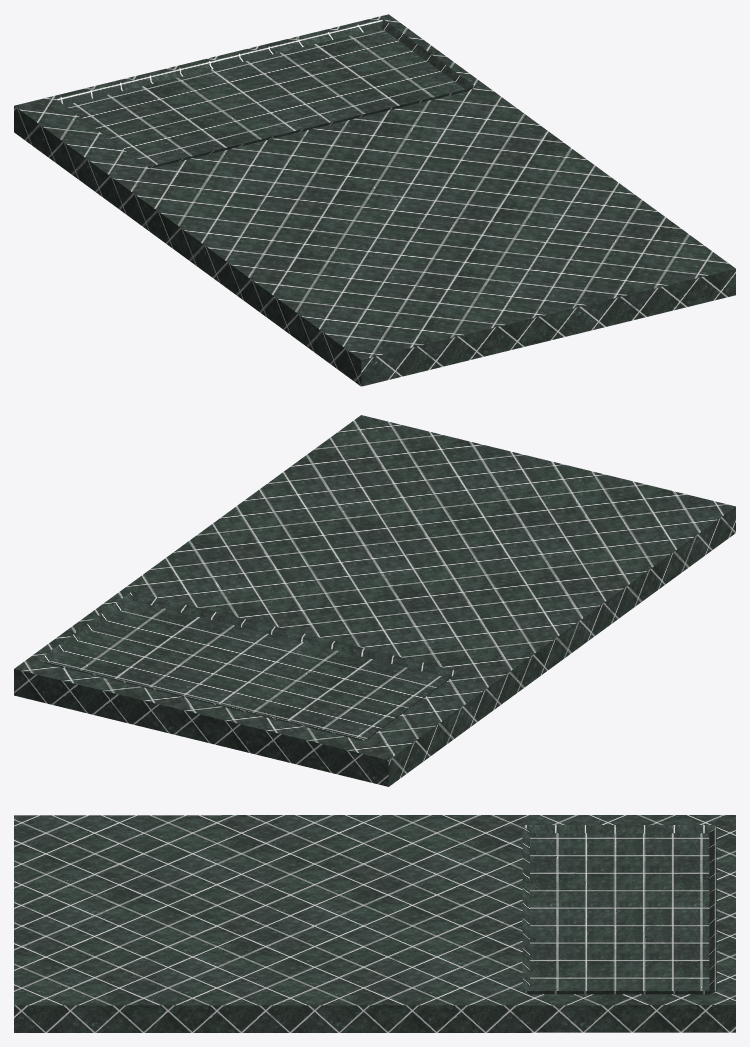
File: Floor_b8454746.obj
The picture shows the model from 3 angles, top to bottom: view 1: azimuth 30°, elevation 25°; view 2: azimuth 150°, elevation 25°; view 3: azimuth 270°, elevation 25°; orthographic projection. The views are drawn at different scales.
Visible parts, largest first — view 1: mesh_663f9b29, FP424:polySurface110_af372657; view 2: mesh_663f9b29, FP424:polySurface110_af372657; view 3: mesh_663f9b29, FP424:polySurface110_af372657.
Boxes of the visible parts, x1,y1,x2,y2 form: mesh_663f9b29: [14, 14, 735, 386]; FP424:polySurface110_af372657: [55, 18, 475, 168]; mesh_663f9b29: [14, 415, 735, 786]; FP424:polySurface110_af372657: [39, 591, 458, 741]; mesh_663f9b29: [14, 815, 735, 1032]; FP424:polySurface110_af372657: [522, 825, 716, 994].
Bounding box in the file's own units: 2.6 × 0.2186 × 4.18.
